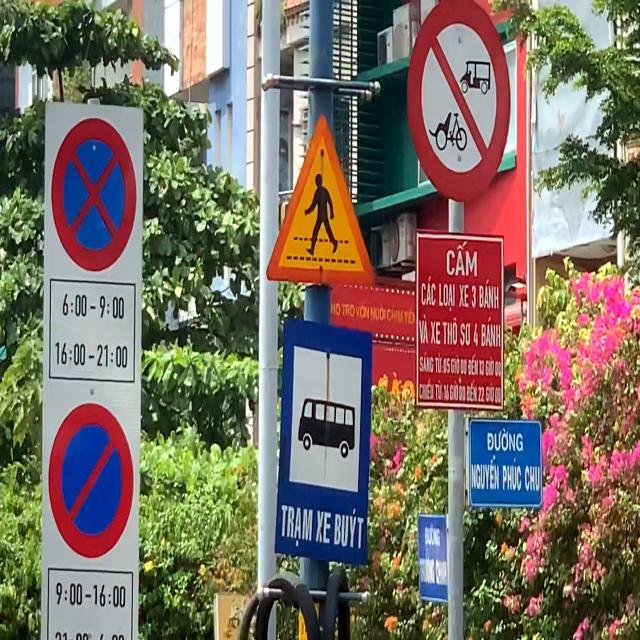P.130: (51, 117, 137, 272)
P.131a: (48, 402, 134, 559)
R.434: (274, 310, 375, 568)
W.224: (264, 112, 377, 288)
